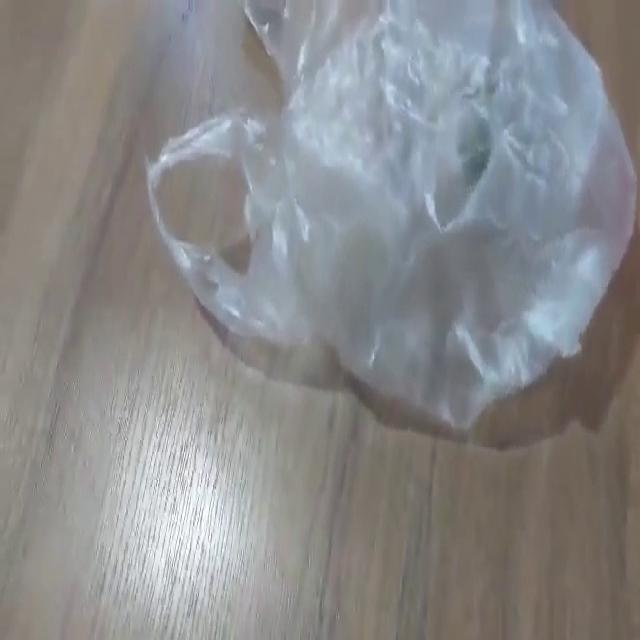Anorganik: (140, 2, 635, 438)
